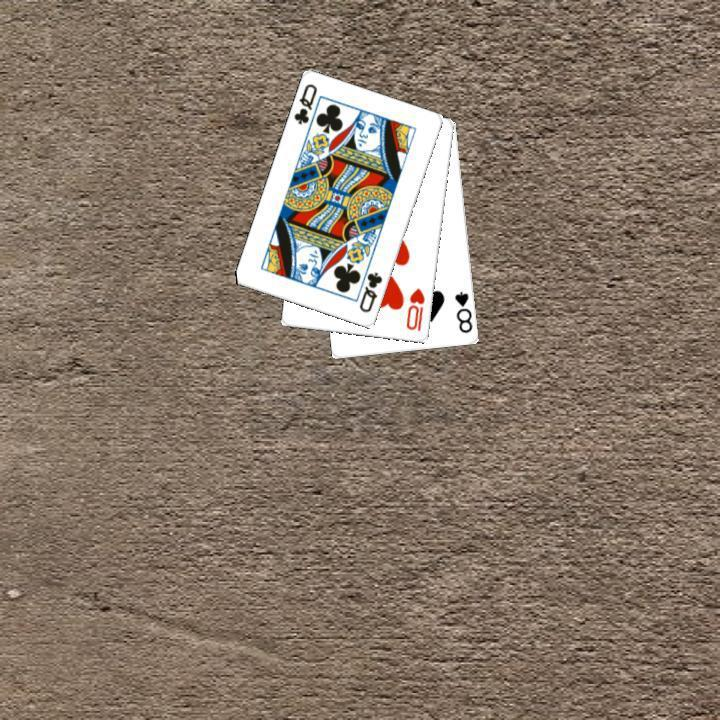10: (402, 284, 427, 333)
8: (451, 287, 474, 335)
Q: (290, 80, 320, 127), (355, 268, 384, 315)
